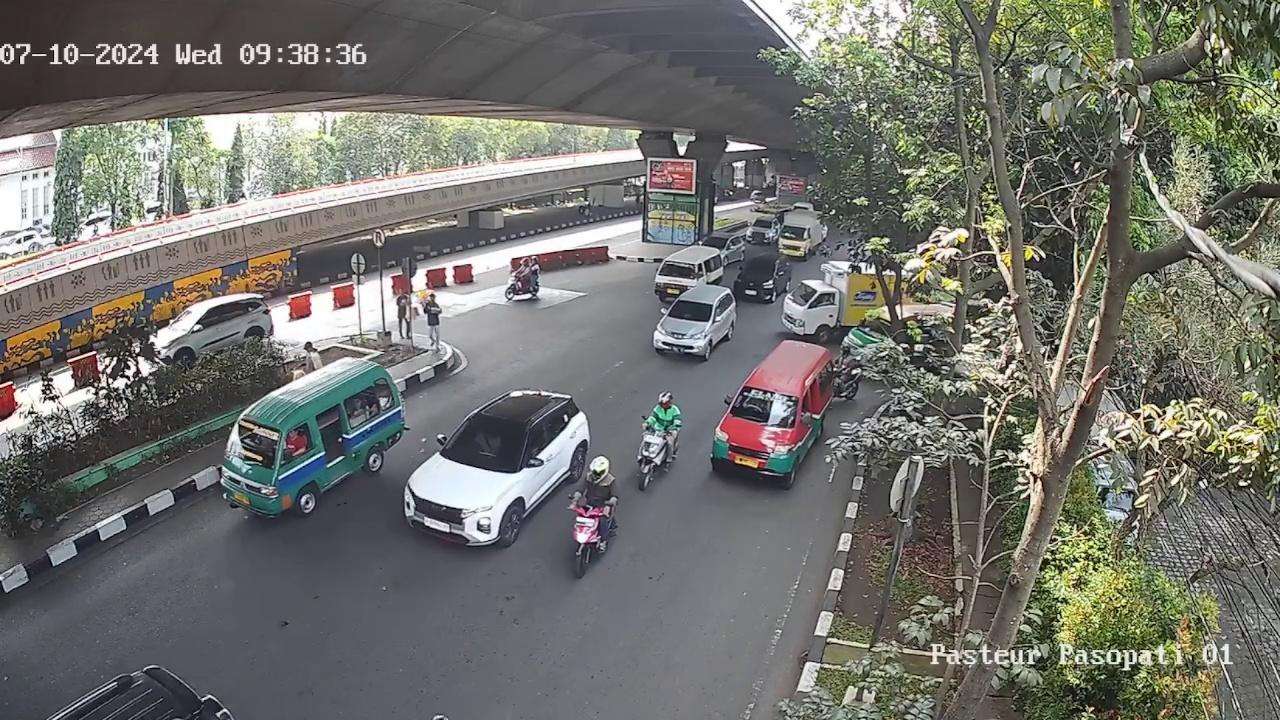pakai: (471, 427, 505, 453)
windshield: (443, 416, 528, 463), (227, 415, 285, 467), (732, 381, 800, 425), (666, 300, 713, 323), (657, 259, 698, 280)
